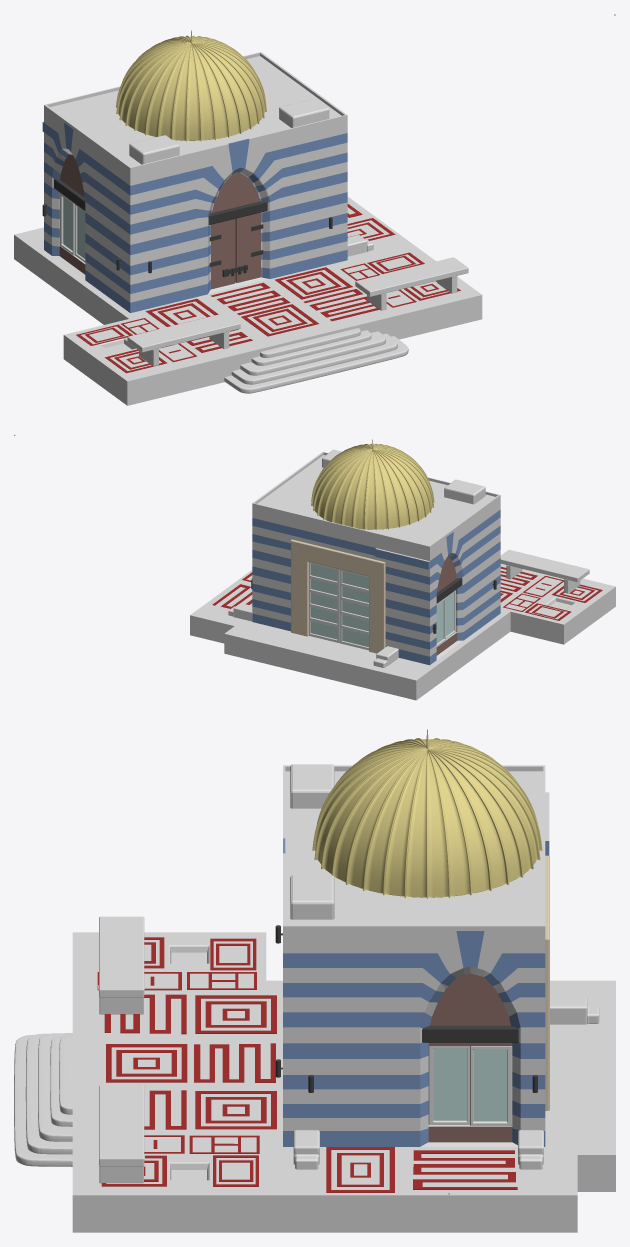
File: fixedtemple2.glb
3 views of the same model, one above another, from view 1: azimuth 30°, elevation 25°; view 2: azimuth 150°, elevation 25°; view 3: azimuth 270°, elevation 25° (orthographic). The views are drawn at different scales.
Parts seen in each view (by area): view 1: Plane, Plane.001, Sphere, Plane.002, Cube.008, Cube.009, Cube.001_Material_0, Plane.008, Plane.015, Plane.014, Plane.012, Plane.013 (+2 smaller); view 2: Plane, Plane.001, Sphere, Plane.007, Cube.004, Cube.009, Cube.001_Material_0, Plane.008, Cube.007, Plane.016; view 3: Plane.001, Plane, Sphere, Plane.002, Plane.008, Cube.008, Cube.009, Cube.001_Material_0, Cube.007, Plane.023, Plane.006, Plane.014 (+9 smaller).
Part boxes in pixels (x1,y1,x2,y2): Plane: [42, 52, 347, 312]; Plane.001: [14, 196, 482, 405]; Sphere: [116, 35, 266, 141]; Plane.002: [224, 328, 408, 393]; Cube.008: [355, 257, 468, 310]; Cube.009: [127, 313, 240, 366]; Cube.001_Material_0: [129, 98, 329, 164]; Plane.008: [60, 193, 85, 262]; Plane.015: [275, 267, 352, 299]; Plane.014: [241, 304, 318, 336]; Plane.012: [211, 282, 290, 315]; Plane.013: [304, 289, 379, 321]; Plane: [252, 451, 500, 665]; Plane.001: [190, 563, 615, 700]; Sphere: [311, 443, 434, 529]; Plane.007: [309, 562, 368, 650]; Cube.004: [291, 539, 385, 653]; Cube.009: [500, 549, 589, 593]; Cube.001_Material_0: [322, 449, 485, 504]; Plane.008: [436, 590, 455, 646]; Cube.007: [228, 603, 398, 667]; Plane.016: [552, 584, 602, 602]; Plane.001: [72, 932, 615, 1232]; Plane: [283, 765, 549, 1146]; Sphere: [312, 738, 542, 898]; Plane.002: [14, 1033, 72, 1166]; Plane.008: [428, 1046, 512, 1125]; Cube.008: [98, 1085, 144, 1183]; Cube.009: [98, 916, 144, 1014]; Cube.001_Material_0: [290, 764, 334, 919]; Cube.007: [293, 997, 599, 1169]; Plane.023: [413, 1150, 517, 1189]; Plane.006: [195, 995, 276, 1033]; Plane.014: [106, 1044, 187, 1082].
Bounding box in the file's own units: 1162 × 446 × 651.
